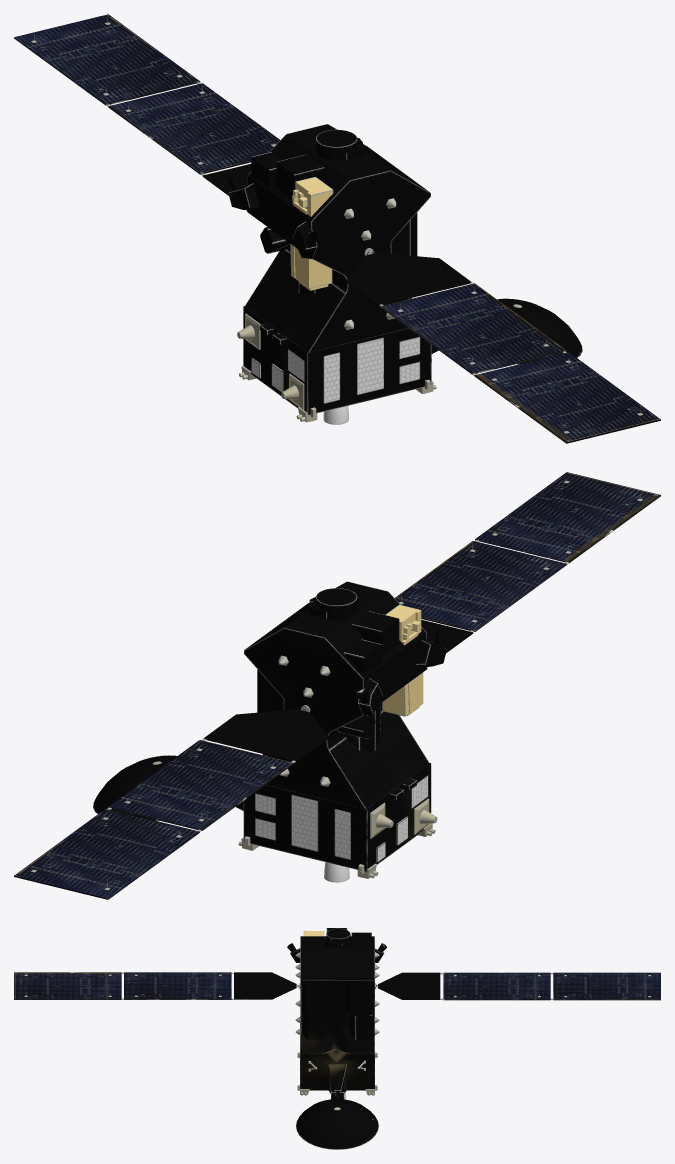
Rendered from exomars-tgo.glb.
The picture shows the model from 3 angles, top to bottom: view 1: azimuth 30°, elevation 25°; view 2: azimuth 150°, elevation 25°; view 3: azimuth 270°, elevation 25°; orthographic projection. The views are drawn at different scales.
Parts seen in each view (by area): view 1: Object001; view 2: Object001; view 3: Object001.
Part boxes in pixels (box(x1,y1,x2,y2)): Object001: box(14, 14, 660, 443); Object001: box(14, 472, 660, 899); Object001: box(14, 928, 660, 1149).
Size of the model in its own units: 5.76 by 4.95 by 17.69.
1 material, 1 textured.
